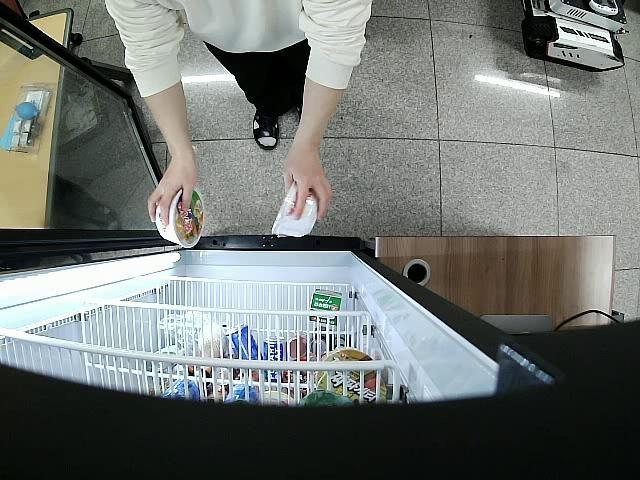09_yukGaeJang: (156, 187, 207, 248), (272, 180, 318, 236)
